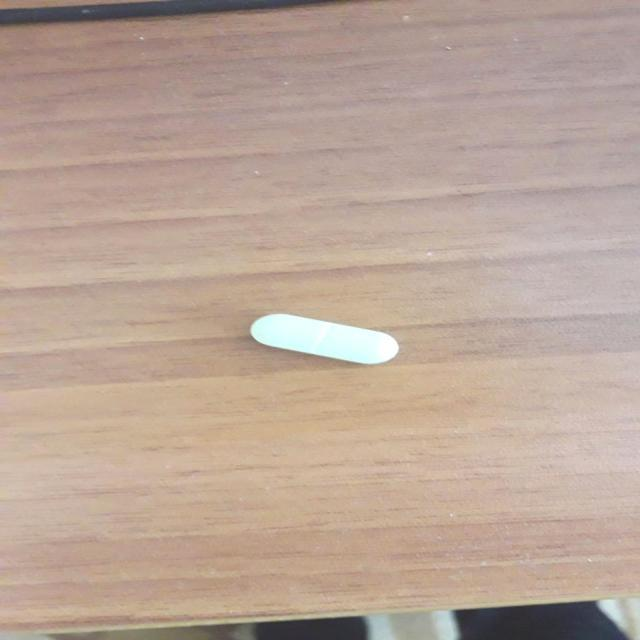pill: (247, 310, 418, 368)
